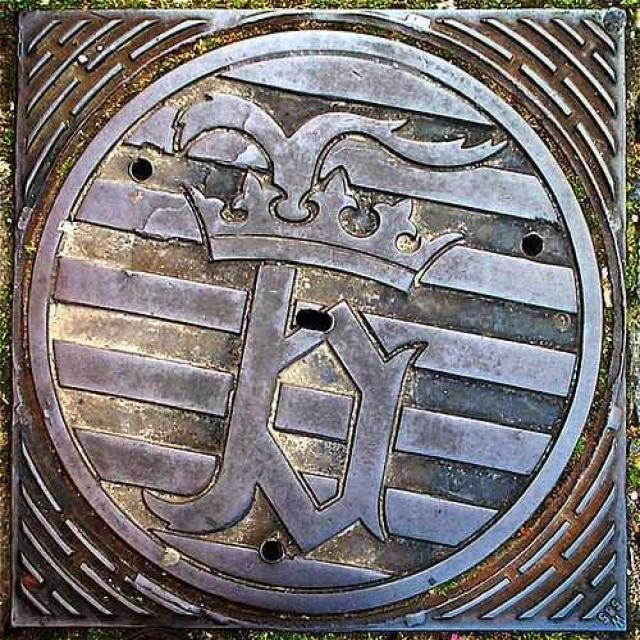manhole: (14, 11, 626, 631)
